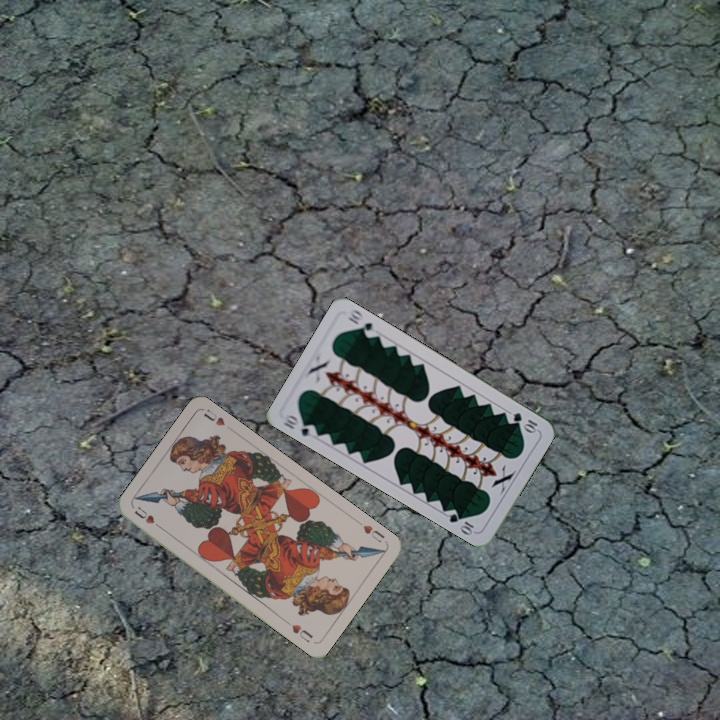G10: (279, 411, 320, 441), (509, 408, 541, 436)
HU: (130, 503, 165, 532), (359, 521, 387, 545)
